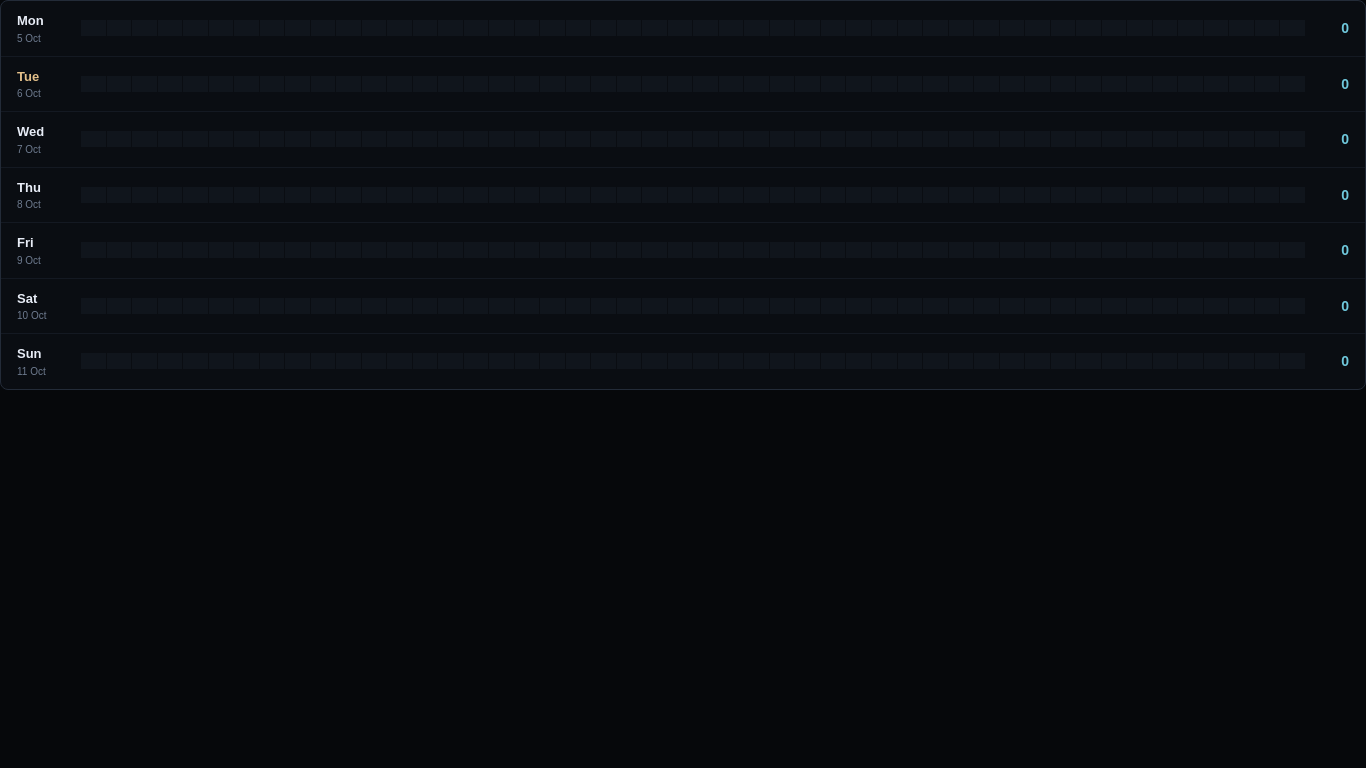
Test: DaySummary zone note › names PDT for an October day
Click the button "Mon 5 Oct 0" at (683, 28), box [1,1,1365,56]
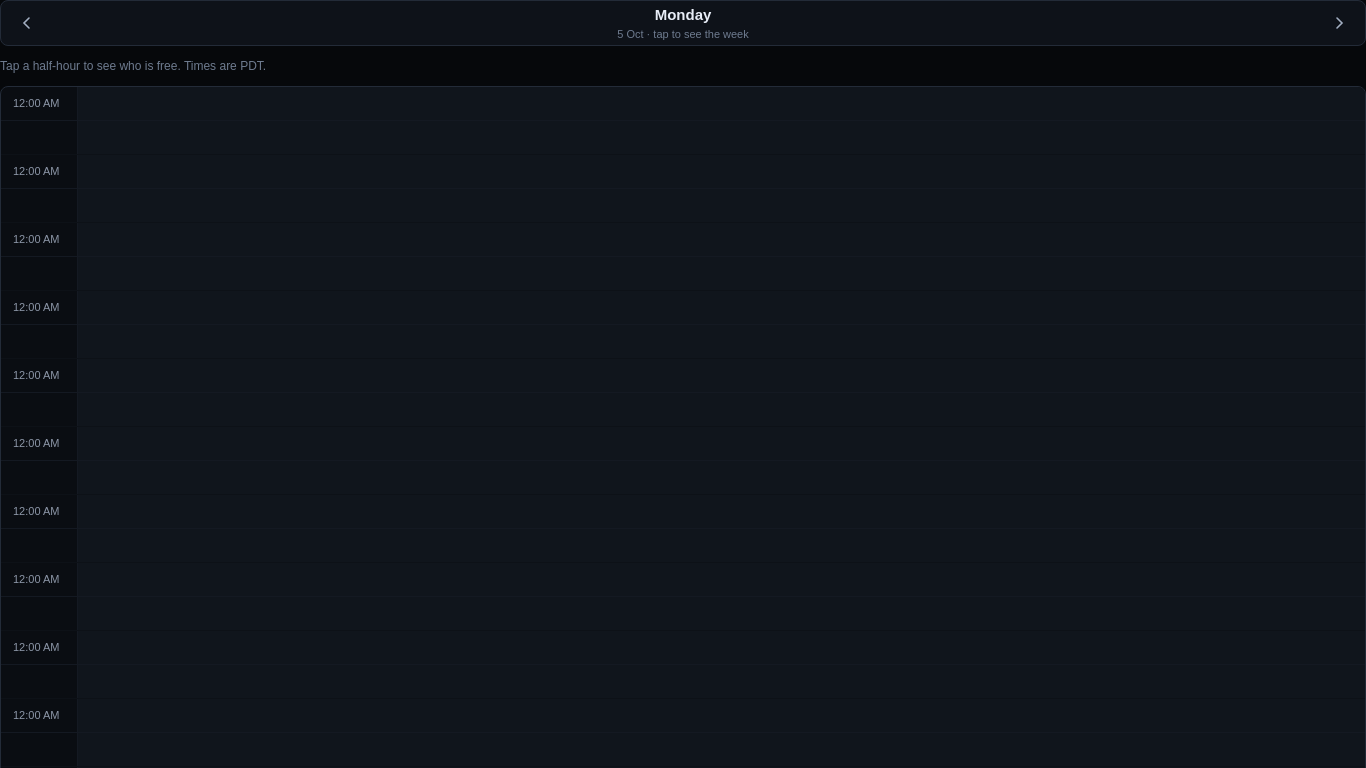
Check: the text "Times are PDT." is shown, box [181,59,266,73]
